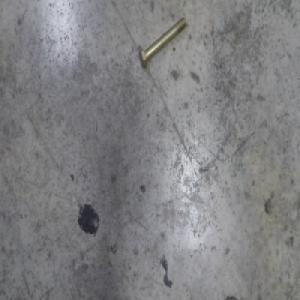Bolt: (138, 15, 188, 68)
